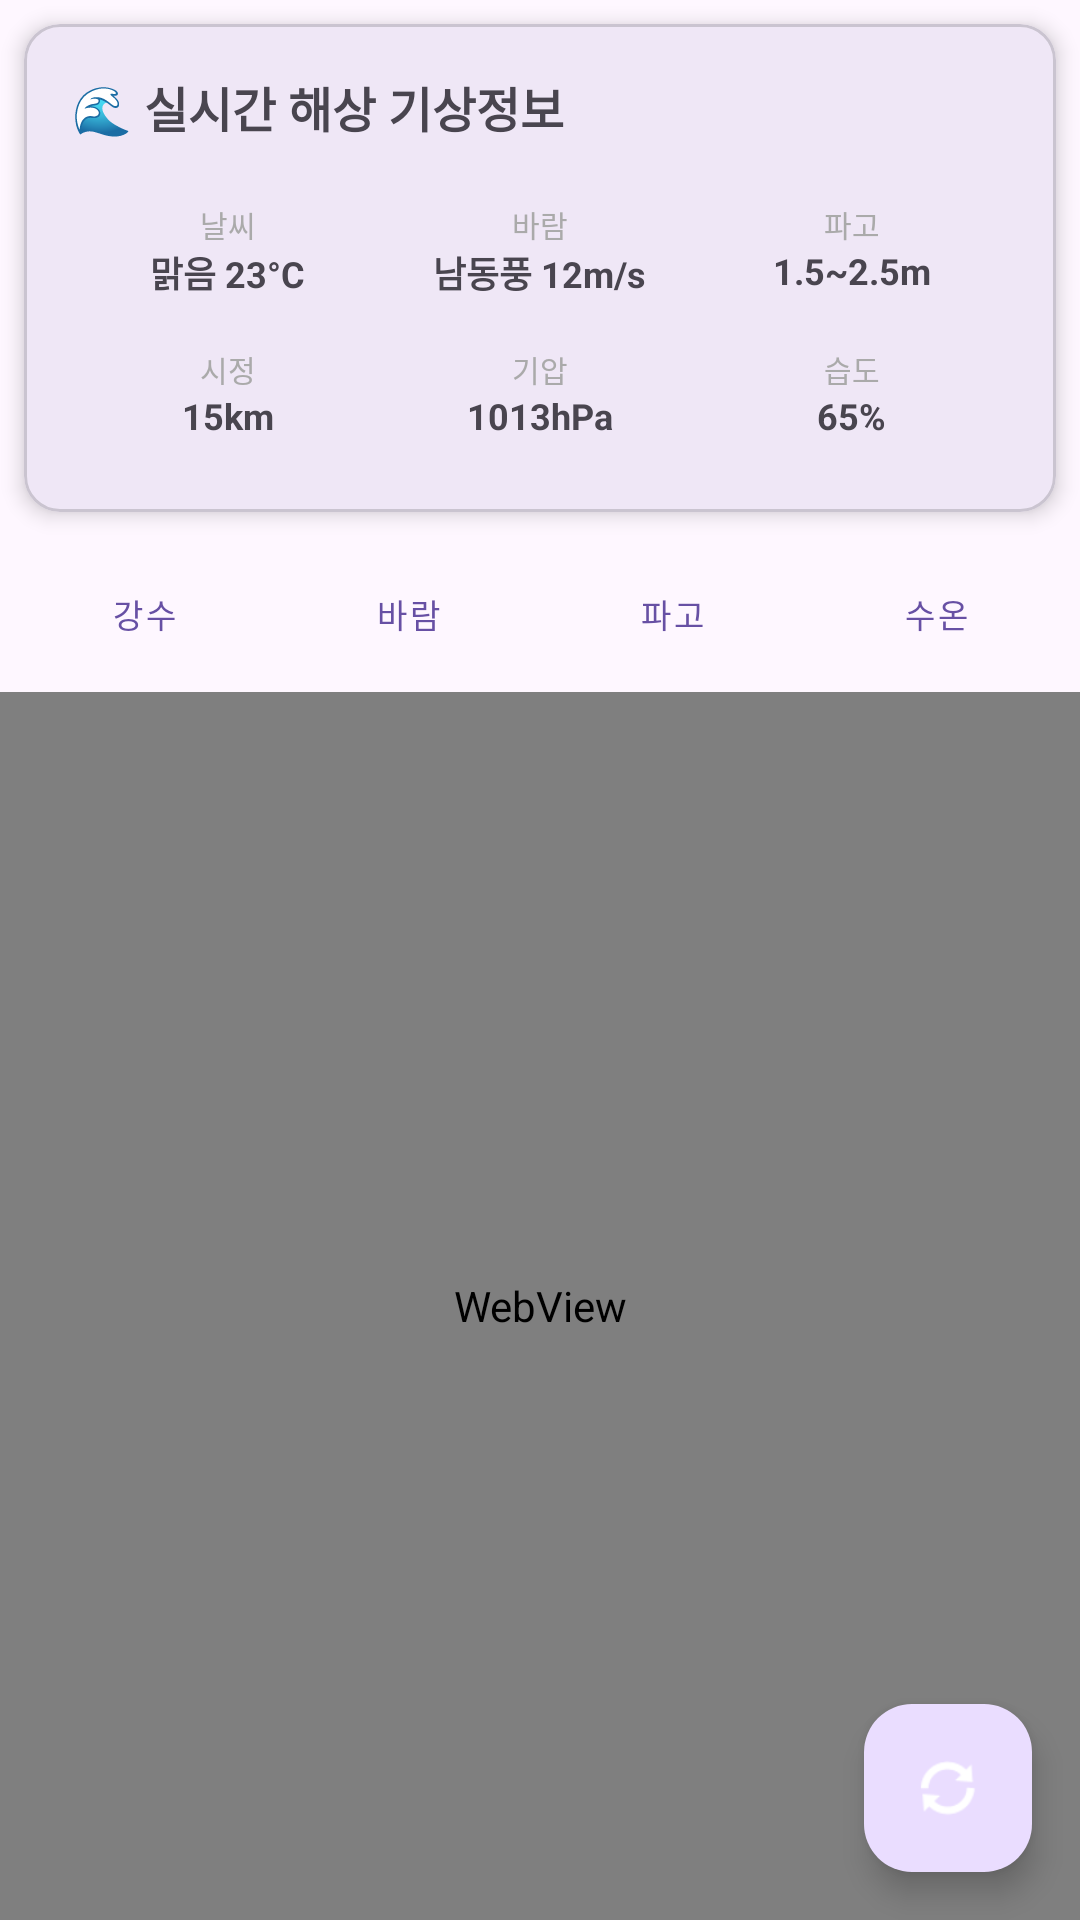

Named icons in this screenshot (1080 x 1920) and their bounding boxes, (x1, y1, x2, y2):
popup sync: (864, 1704, 1032, 1872)
